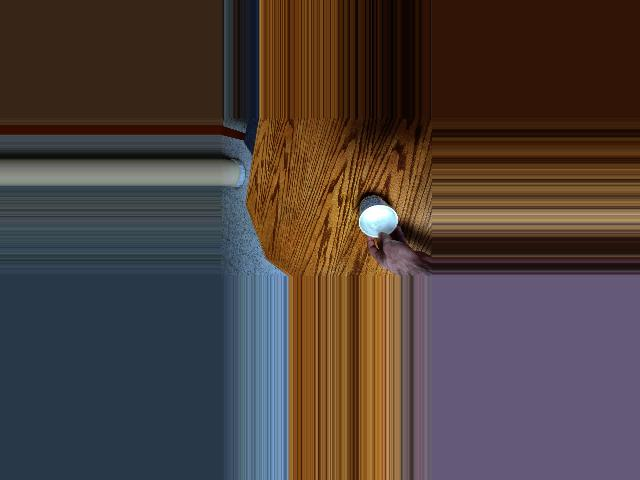cotage: (355, 199, 397, 243)
